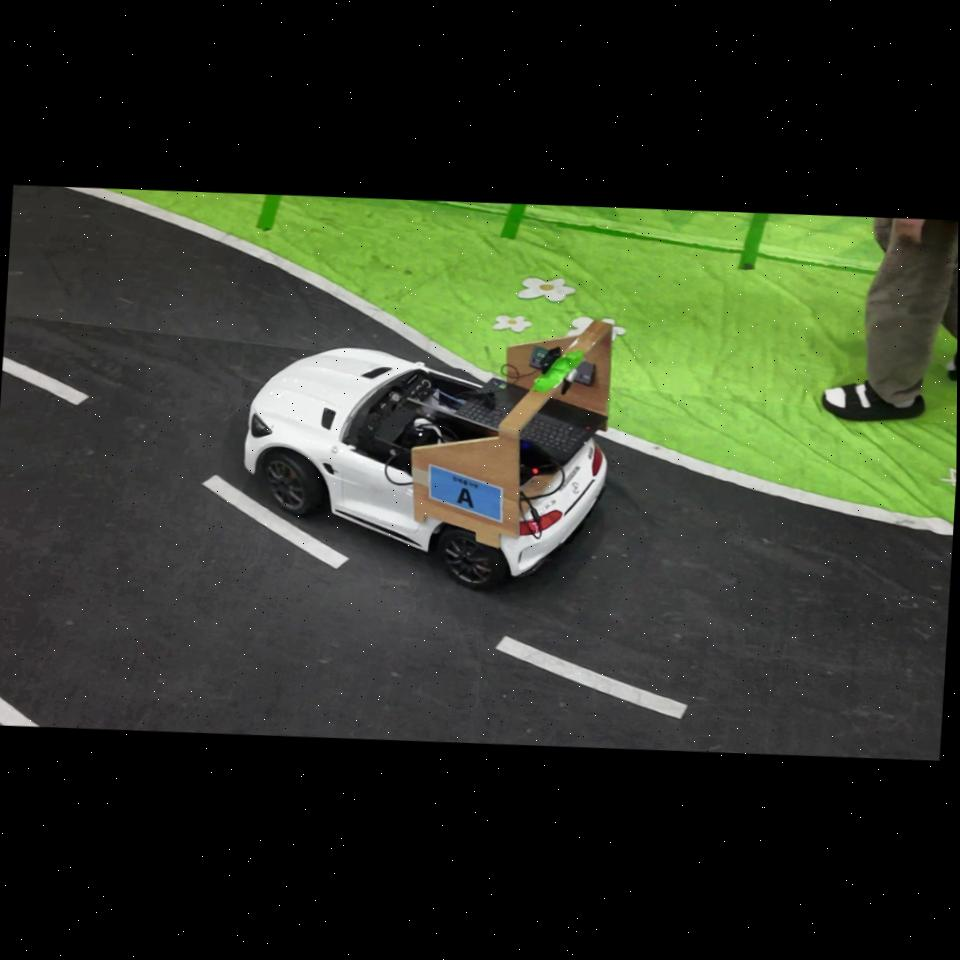broken_line: (496, 636, 687, 719), (203, 476, 348, 568), (2, 357, 88, 405)
